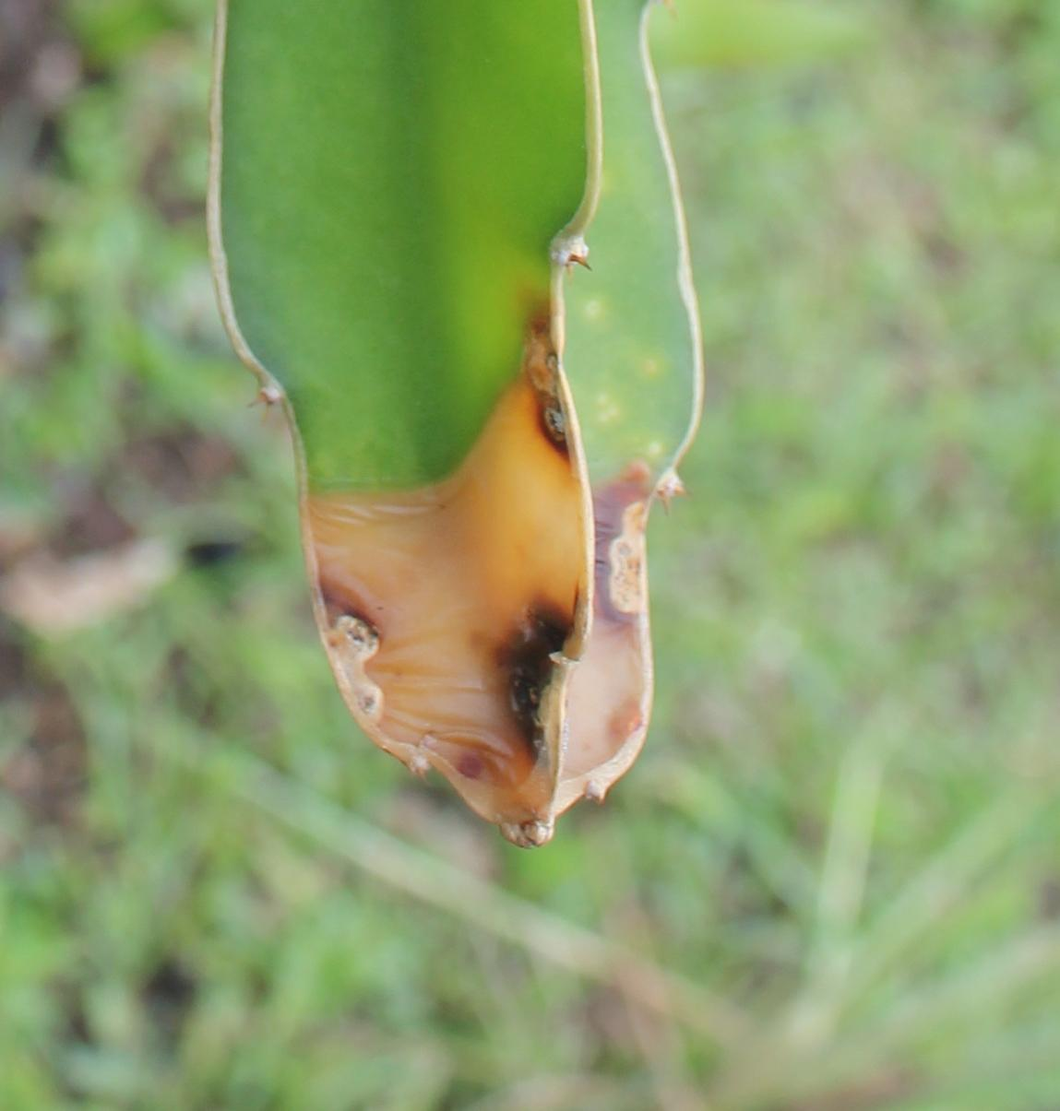stemcanker: (188, 5, 714, 864)
